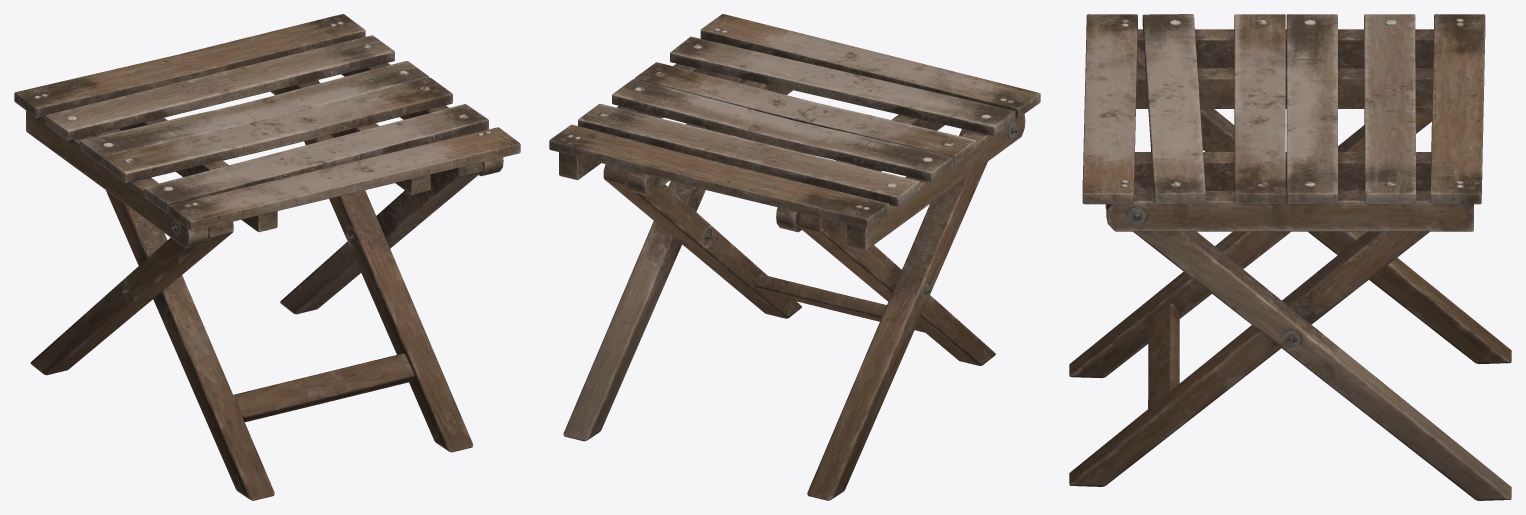
File: folding_wooden_stool.glb
The picture shows the model from 3 angles, left to right: view 1: azimuth 30°, elevation 25°; view 2: azimuth 150°, elevation 25°; view 3: azimuth 270°, elevation 25°; orthographic projection. The views are drawn at different scales.
Parts seen in each view (by area): view 1: folding_wooden_stool; view 2: folding_wooden_stool; view 3: folding_wooden_stool.
Part boxes in pixels (left/top/right/bottom): folding_wooden_stool: left=14, top=14, right=520, bottom=500; folding_wooden_stool: left=549, top=14, right=1040, bottom=500; folding_wooden_stool: left=1069, top=14, right=1511, bottom=500.
Size of the model in its own units: 0.5278 by 0.442 by 0.5471.
Materials: 1 (1 with a texture image).
